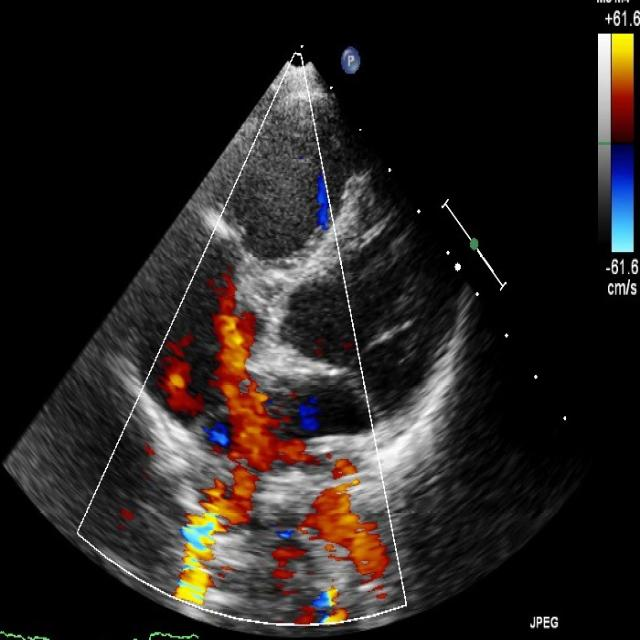ASDType2: (193, 328, 280, 456)
